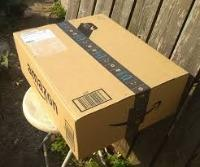undamaged: (8, 13, 190, 161)
